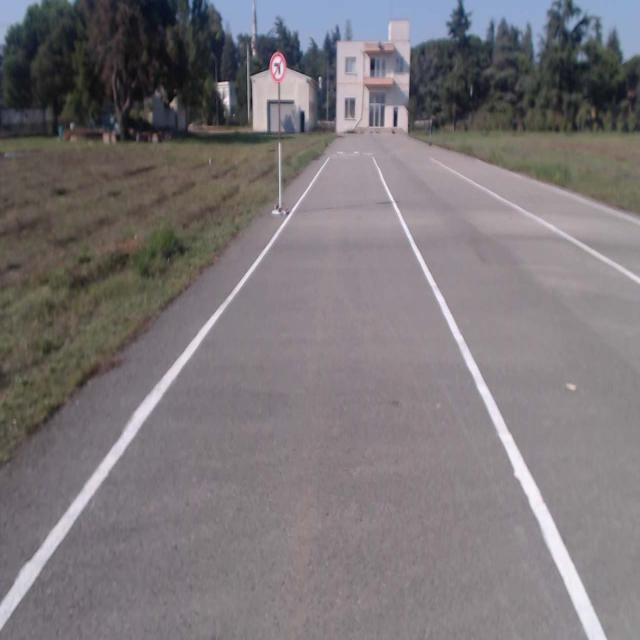soladonulmez: (270, 53, 286, 83)
